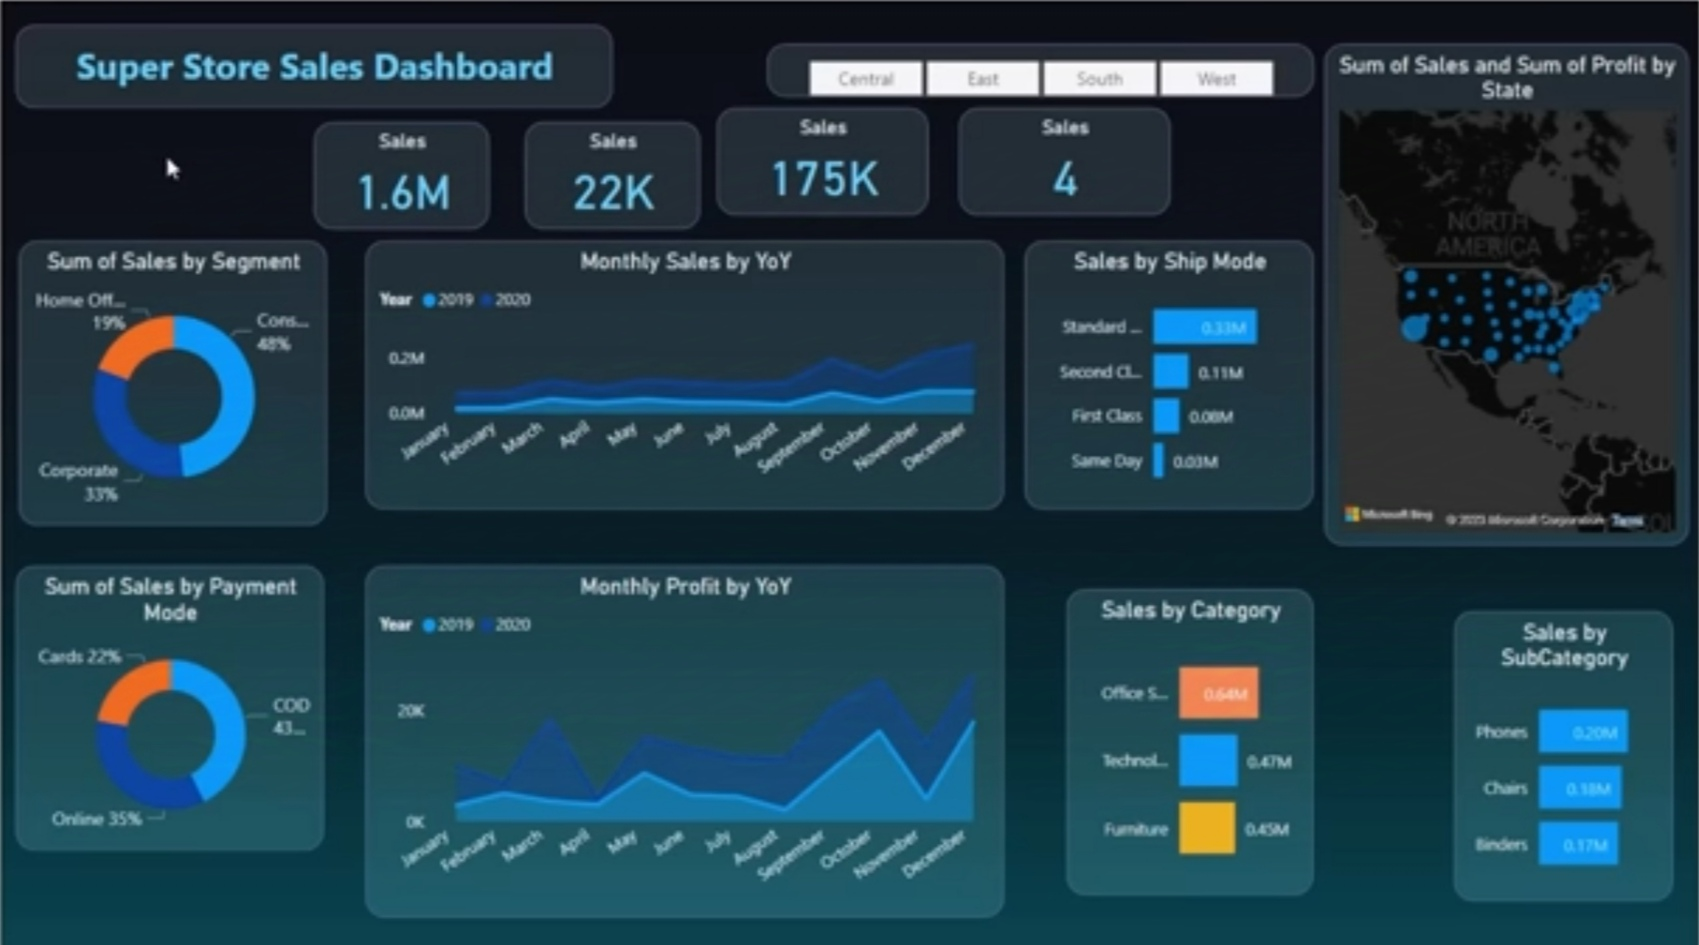

This screenshot's page, from the dashboard's own definition file:
{"tool":"powerbi","page":{"name":"Page 1","canvas":[1280,720],"ordinal":0},"visuals":[{"type":"clusteredBarChart","title":"Sales by Category","fields":{"Category":["SuperStore_Sales_Dataset.Category"],"Y":["Sum(SuperStore_Sales_Dataset.Sales)"]},"box":[494.6,59.5,413.9,209.8],"z":0},{"type":"clusteredBarChart","title":"Sales by Sub Category","fields":{"Category":["SuperStore_Sales_Dataset.Sub-Category"],"Y":["Sum(SuperStore_Sales_Dataset.Sales)"]},"box":[494.6,269.3,413.9,204.1],"z":1000},{"type":"clusteredBarChart","title":"Sales by Ship Mode","fields":{"Category":["SuperStore_Sales_Dataset.Ship Mode"],"Y":["Sum(SuperStore_Sales_Dataset.Sales)"]},"box":[494.6,472,413.9,243.8],"z":2000},{"type":"stackedAreaChart","title":"Monthly Sales by YoY","fields":{"Y":["Sum(SuperStore_Sales_Dataset.Sales)"],"Category":["SuperStore_Sales_Dataset.Order Date.Variation.Date Hierarchy.Month"],"Series":["SuperStore_Sales_Dataset.Order Date.Variation.Date Hierarchy.Year"]},"box":[929.8,473.4,350.1,243.8],"z":3000},{"type":"stackedAreaChart","title":"Monthly Profit by YoY","fields":{"Category":["SuperStore_Sales_Dataset.Order Date.Variation.Date Hierarchy.Month"],"Series":["SuperStore_Sales_Dataset.Order Date.Variation.Date Hierarchy.Year"],"Y":["Sum(SuperStore_Sales_Dataset.Profit)"]},"box":[929.8,56.7,350.1,209.8],"z":4000},{"type":"map","title":"Total Sales and Profit by State ","fields":{"Category":["SuperStore_Sales_Dataset.State"],"Size":["Sum(SuperStore_Sales_Dataset.Sales)"]},"box":[0,65.2,348.7,382.7],"z":5000},{"type":"donutChart","title":" Sales by Segment","fields":{"Category":["SuperStore_Sales_Dataset.Segment"],"Y":["Avg(SuperStore_Sales_Dataset.Sales)"]},"box":[0,473.4,348.7,243.8],"z":6000},{"type":"donutChart","title":" Sales by Payment Mode","fields":{"Category":["SuperStore_Sales_Dataset.Payment Mode"],"Y":["Sum(SuperStore_Sales_Dataset.Sales)"]},"box":[929.8,269.3,350.1,204.1],"z":7000},{"type":"slicer","fields":{"Values":["SuperStore_Sales_Dataset.Region"]},"box":[0,0,432.3,65.2],"z":8000},{"type":"card","title":"Average Delivery Period","fields":{"Values":["Avg(SuperStore_Sales_Dataset.AvgDelivery)"]},"box":[358.6,86.5,120.5,123.3],"z":9000},{"type":"card","title":" Profit","fields":{"Values":["Sum(SuperStore_Sales_Dataset.Profit)"]},"box":[358.6,266.5,120.5,123.3],"z":10000},{"type":"card","title":" Quantity","fields":{"Values":["Sum(SuperStore_Sales_Dataset.Quantity)"]},"box":[358.6,436.5,120.5,123.3],"z":11000},{"type":"card","title":" Sales","fields":{"Values":["Sum(SuperStore_Sales_Dataset.Sales)"]},"box":[358.6,596.7,120.5,123.3],"z":12000},{"type":"textbox","title":"Super Stores Sales Dashboard ","box":[494.6,0,785.2,48.2],"z":13000}]}

Visuals, with their boxes in screenshot pixels (x1, y1, x2, y2), scaled from the page's 1280x720 canvas onto the 1699x945 screenshot:
"Sales by Category" clusteredBarChart: box=[657, 78, 1206, 353]
"Sales by Sub Category" clusteredBarChart: box=[657, 353, 1206, 621]
"Sales by Ship Mode" clusteredBarChart: box=[657, 620, 1206, 939]
"Monthly Sales by YoY" stackedAreaChart: box=[1234, 621, 1698, 941]
"Monthly Profit by YoY" stackedAreaChart: box=[1234, 74, 1698, 350]
"Total Sales and Profit by State " map: box=[0, 86, 463, 588]
" Sales by Segment" donutChart: box=[0, 621, 463, 941]
" Sales by Payment Mode" donutChart: box=[1234, 353, 1698, 621]
slicer - SuperStore_Sales_Dataset.Region: box=[0, 0, 574, 86]
"Average Delivery Period" card: box=[476, 114, 636, 275]
" Profit" card: box=[476, 350, 636, 512]
" Quantity" card: box=[476, 573, 636, 735]
" Sales" card: box=[476, 783, 636, 944]
"Super Stores Sales Dashboard " textbox: box=[657, 0, 1698, 63]
